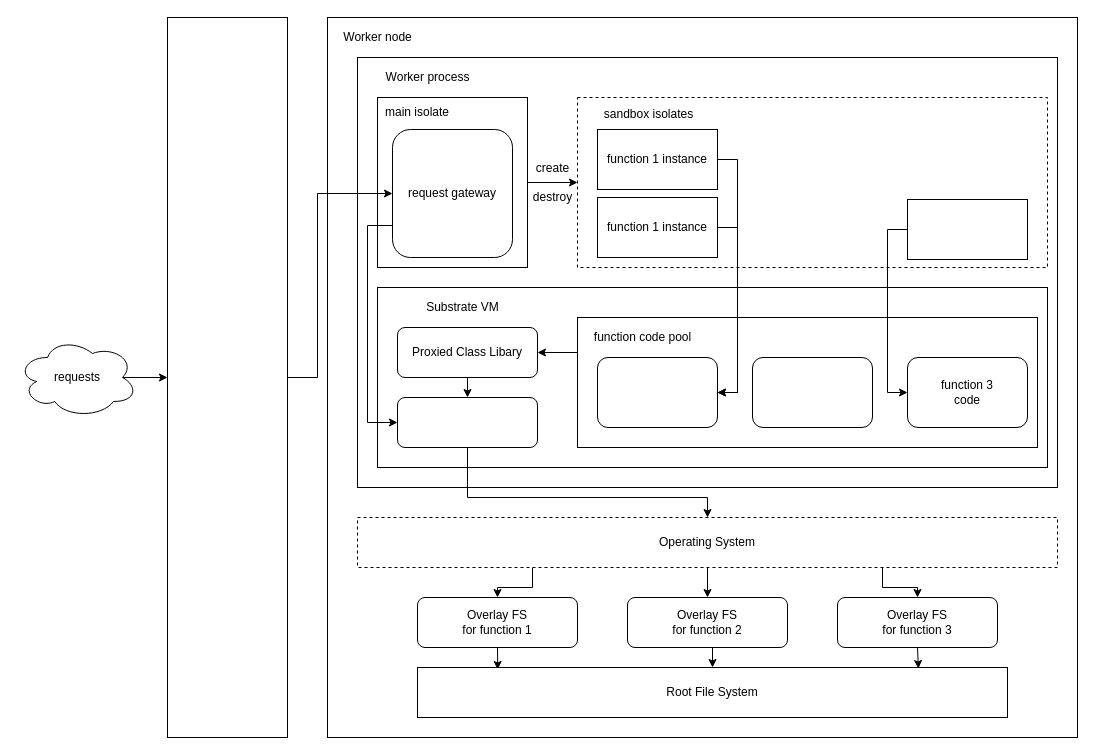
Image size: 1095x755. Some labels were removed from this diagram. The centre of each missing label's shape, as x and y in pixels:
"function 1 code" belongs at (x=657, y=392).
"function 2 code" belongs at (x=812, y=392).
"function 3 instance" belongs at (x=967, y=229).
"Java Class Libary" belongs at (x=467, y=422).
"Platform" belongs at (x=227, y=377).
